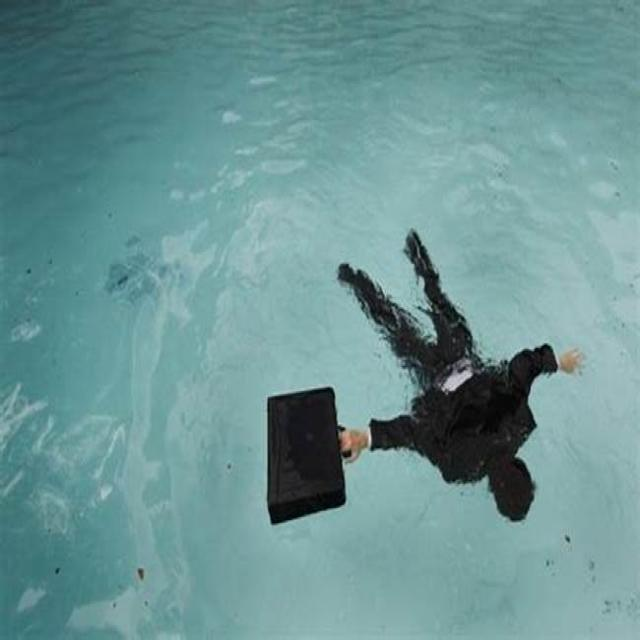Drowning: (255, 241, 576, 530)
